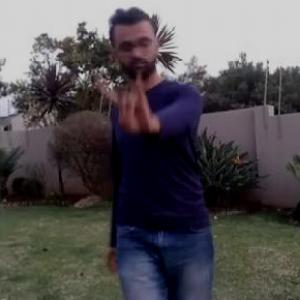takeoff-hand: (87, 63, 159, 142)
